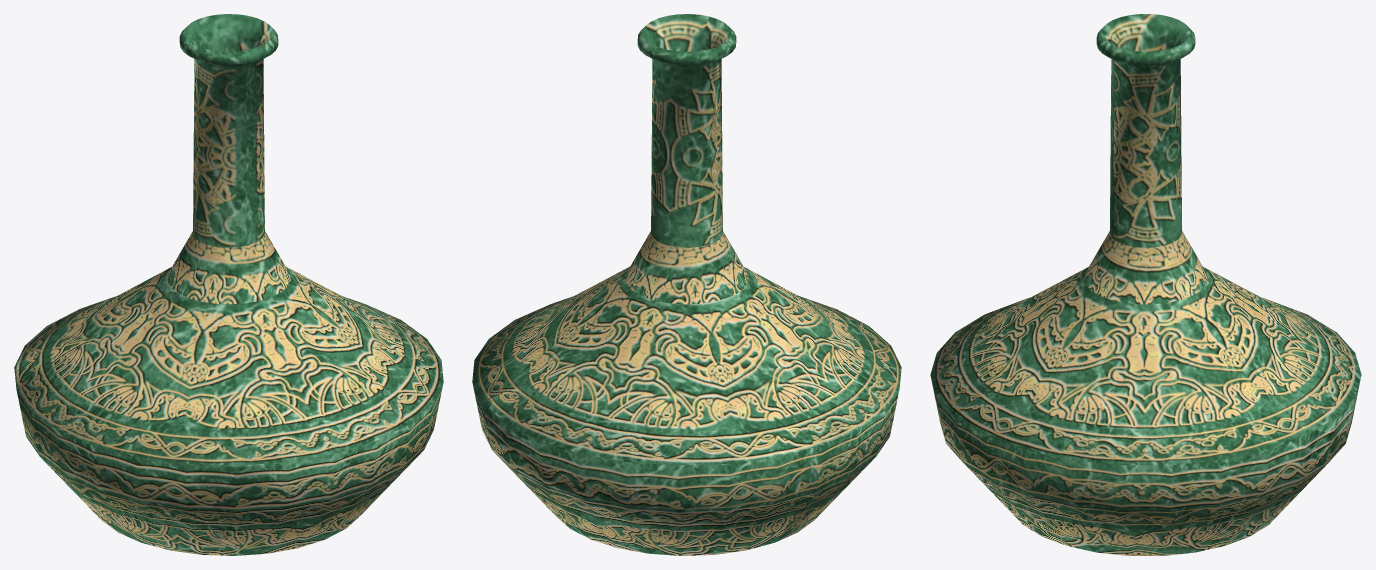
File: vase.001.fbx
3 views of the same model, side by side, from view 1: azimuth 30°, elevation 25°; view 2: azimuth 150°, elevation 25°; view 3: azimuth 270°, elevation 25° (orthographic).
Parts seen in each view (by area): view 1: vase.001, vase.001_cell.008, vase.001_cell.003, vase.001_cell.002, vase.001_cell.007, vase.001_cell.004, vase.001_cell.005, vase.001_cell.009; view 2: vase.001, vase.001_cell.005, vase.001_cell.008, vase.001_cell.007, vase.001_cell.004, vase.001_cell.006, vase.001_cell.002, vase.001_cell.009; view 3: vase.001, vase.001_cell.009, vase.001_cell.007, vase.001_cell.002, vase.001_cell.005, vase.001_cell.003, vase.001_cell.006, vase.001_cell.004, vase.001_cell.008.
Part boxes in pixels (x1,y1,x2,y2): vase.001: (15, 14, 443, 553); vase.001_cell.008: (14, 310, 247, 545); vase.001_cell.003: (168, 358, 410, 555); vase.001_cell.002: (193, 17, 278, 196); vase.001_cell.007: (131, 178, 361, 369); vase.001_cell.004: (179, 14, 250, 137); vase.001_cell.005: (14, 284, 144, 366); vase.001_cell.009: (352, 300, 441, 434); vase.001: (472, 14, 901, 553); vase.001_cell.005: (489, 332, 778, 527); vase.001_cell.008: (750, 285, 899, 541); vase.001_cell.007: (472, 162, 777, 390); vase.001_cell.004: (640, 34, 734, 177); vase.001_cell.006: (482, 392, 756, 555); vase.001_cell.002: (643, 14, 736, 183); vase.001_cell.009: (474, 296, 573, 364); vase.001: (931, 14, 1360, 555); vase.001_cell.009: (992, 365, 1261, 545); vase.001_cell.007: (1052, 168, 1299, 455); vase.001_cell.002: (1096, 16, 1181, 184); vase.001_cell.005: (1215, 273, 1361, 435); vase.001_cell.003: (930, 305, 1042, 536); vase.001_cell.006: (1234, 425, 1347, 542); vase.001_cell.004: (1142, 14, 1195, 132); vase.001_cell.008: (956, 282, 1060, 331).
Bounding box in the file's own units: 0.8048 × 0.965 × 0.8107.
